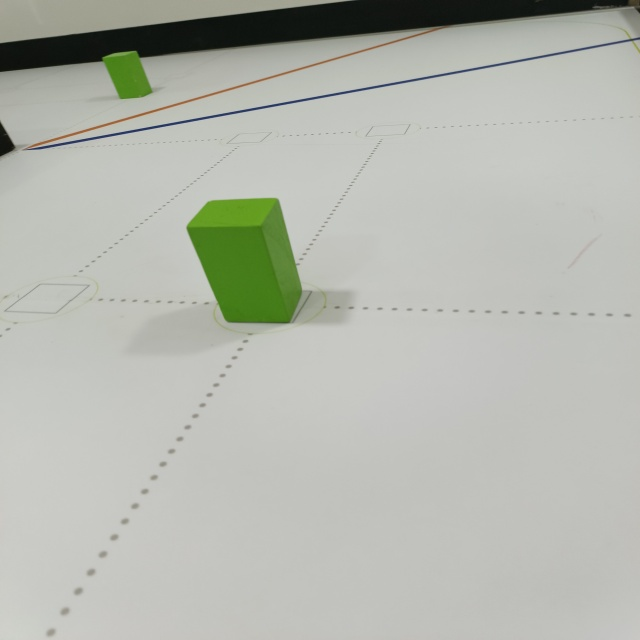blue line: (30, 36, 637, 151)
green rectangular prism: (182, 196, 309, 330), (99, 51, 151, 102)
orange line: (18, 26, 442, 139)
